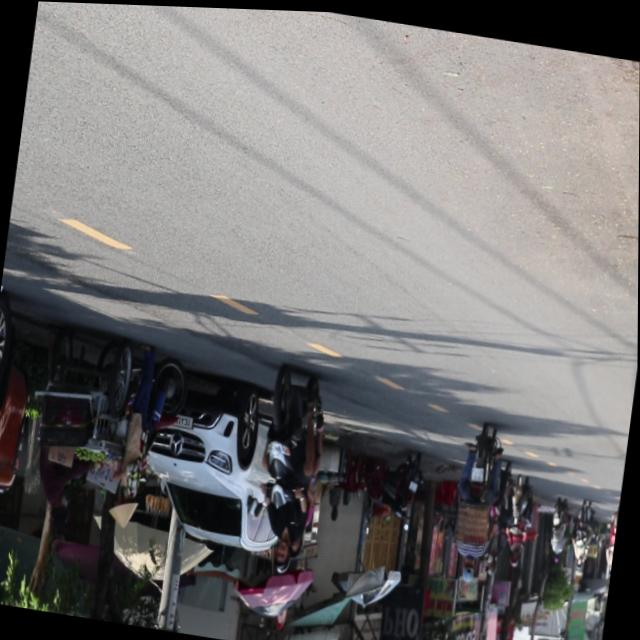helmet: (270, 532, 292, 573)
licenseplate: (245, 359, 333, 577)
